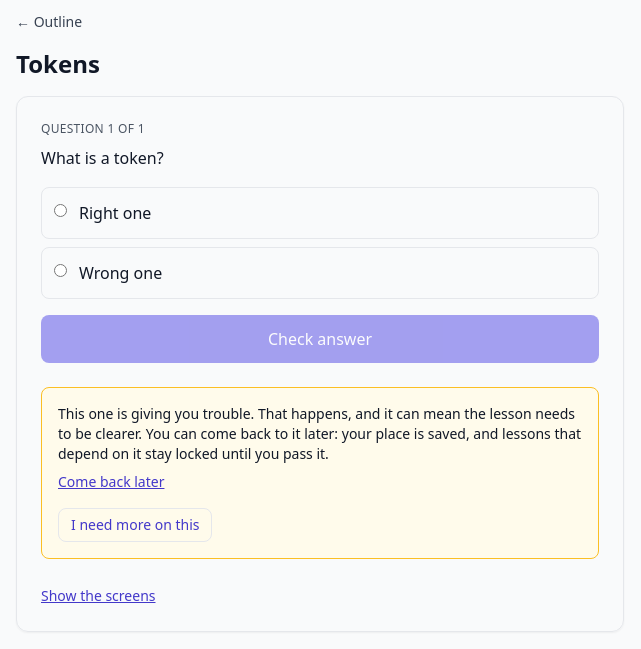
Test: LessonPage › from the second miss it offers to come back later, and saving sets the lesson aside
This screenshot has width=641, height=649.
expect the text "This one is giving you trouble" is shown: met, box left=58, top=404, right=581, bottom=463
Click the button "Come back later" at [111, 482], box left=58, top=472, right=164, bottom=492
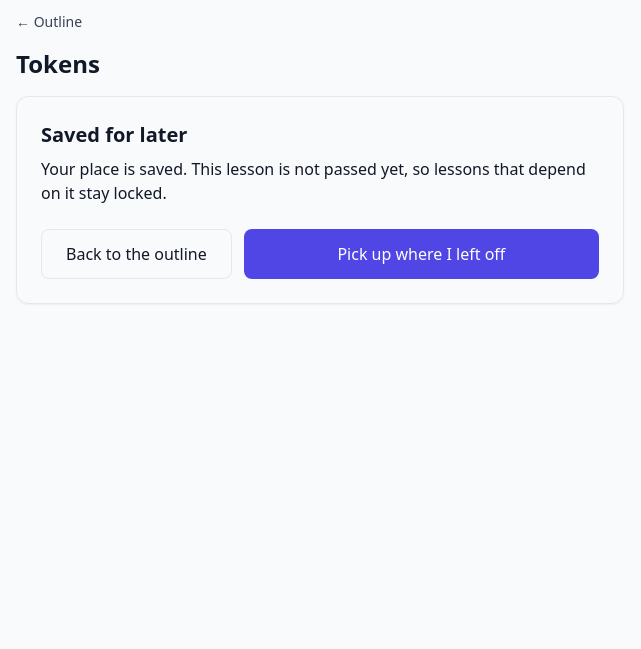
expect the heading "Saved for later" is shown: met, box left=41, top=121, right=187, bottom=148
expect the button "Pick up where I left off" is shown: met, box left=244, top=229, right=599, bottom=279
